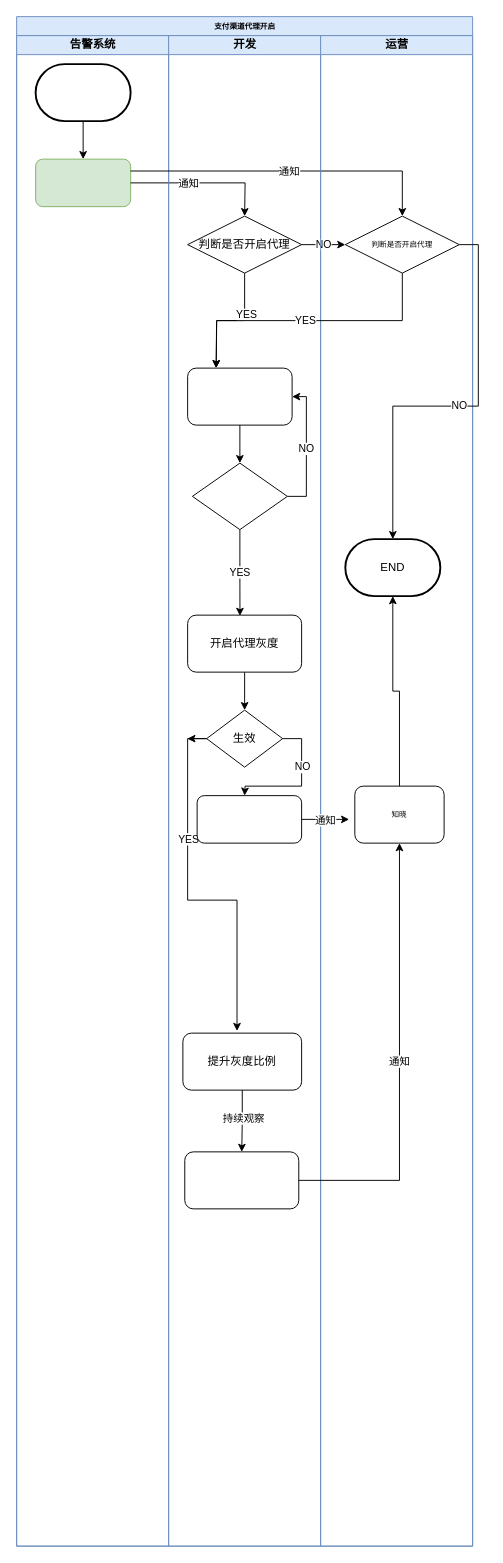
Image size: 503x1563. Some labels were removed from this diagram. The box of each missing label's shape, as (x1, y1, x2, y2) in pixels:
关闭代理，进一步排查: (196, 795, 302, 843)
开始: (34, 63, 131, 122)
提交代理配置: (187, 367, 292, 425)
提升灰度比例直到100%: (184, 1151, 299, 1209)
渠道异常告警: (35, 158, 131, 207)
配置 review 通过: (191, 462, 287, 530)
